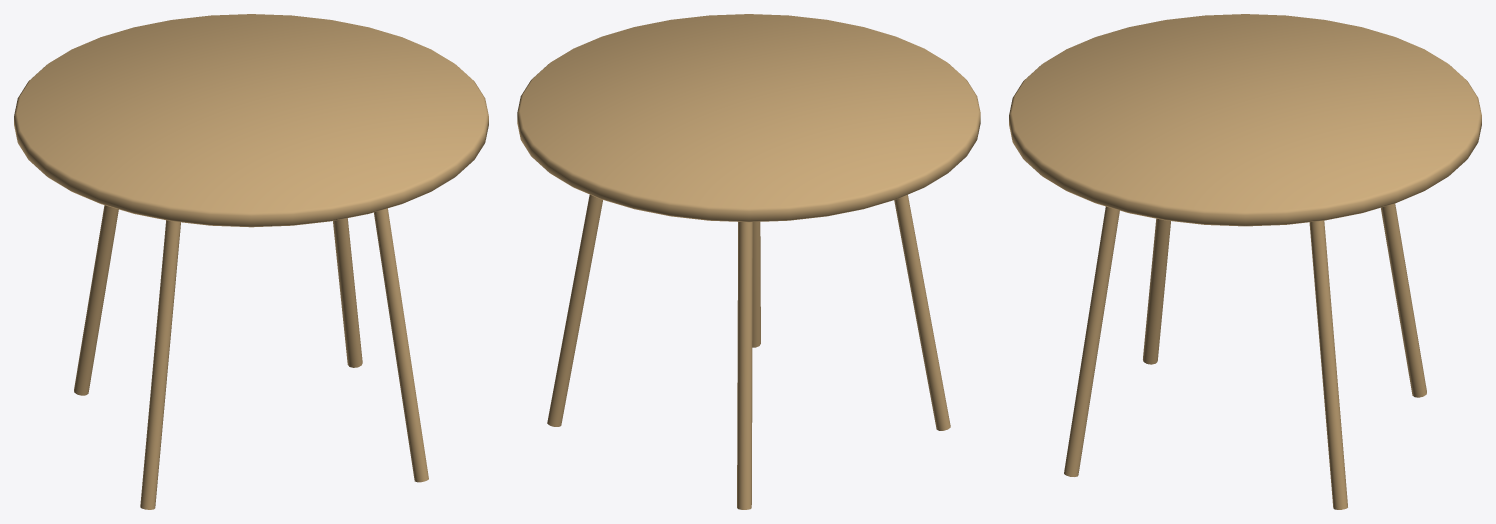
Rendered from i_table_4.glb.
3 renders of one model, left to right at view 1: azimuth 30°, elevation 25°; view 2: azimuth 150°, elevation 25°; view 3: azimuth 270°, elevation 25°, orthographic. The views are drawn at different scales.
Visible parts, largest first — view 1: o, o.003, o.004, o.002, o.001; view 2: o, o.002, o.003, o.001, o.004; view 3: o, o.001, o.004, o.002, o.003.
Boxes of the visible parts, box(x1,y1,x2,y2) form: o: box(14, 14, 488, 227); o.003: box(140, 220, 180, 509); o.004: box(374, 208, 428, 482); o.002: box(74, 205, 118, 395); o.001: box(333, 218, 362, 367); o: box(517, 14, 980, 222); o.002: box(737, 222, 752, 509); o.003: box(894, 194, 950, 430); o.001: box(547, 194, 602, 426); o.004: box(752, 222, 760, 347); o: box(1009, 14, 1481, 226); o.001: box(1309, 220, 1347, 509); o.004: box(1064, 206, 1119, 476); o.002: box(1381, 203, 1426, 397); o.003: box(1143, 218, 1170, 364).
Size of the model in its own units: 1 by 0.7525 by 1.
